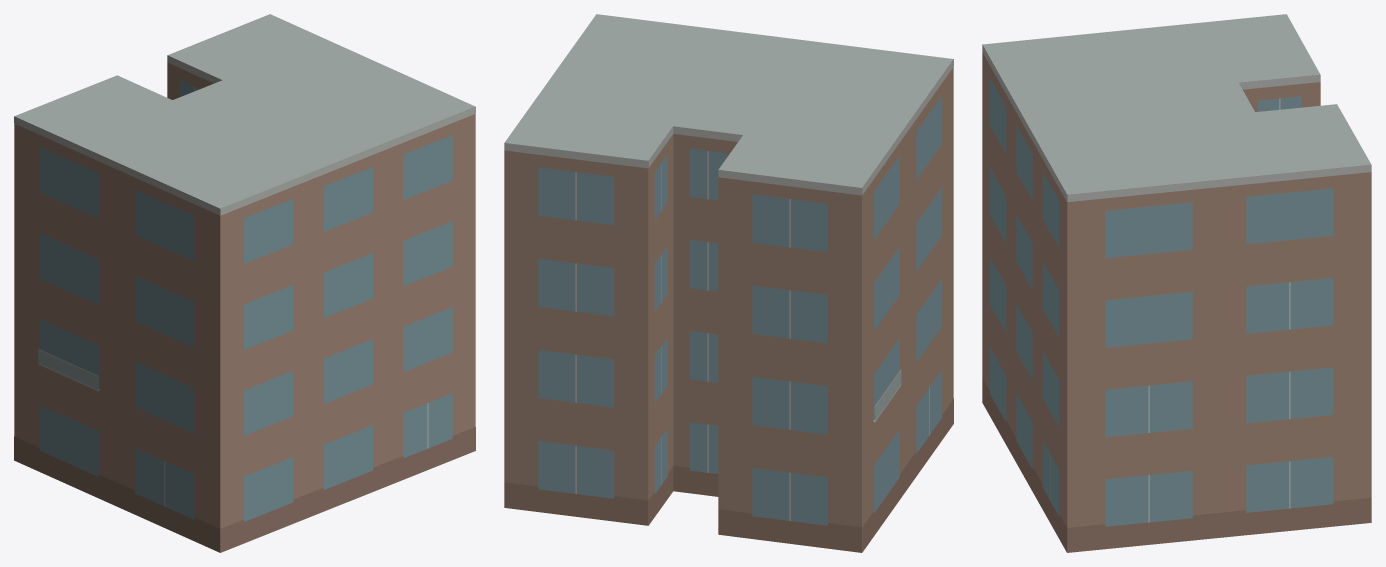
The model's file is survey-upis-32658635.glb.
3 renders of one model, left to right at view 1: azimuth 30°, elevation 25°; view 2: azimuth 150°, elevation 25°; view 3: azimuth 270°, elevation 25°, orthographic. The views are drawn at different scales.
Parts seen in each view (by area): view 1: survey-upis-32658635.tmp; view 2: survey-upis-32658635.tmp; view 3: survey-upis-32658635.tmp.
Boxes of the visible parts, left/top/right/bottom form: survey-upis-32658635.tmp: left=14, top=14, right=475, bottom=552; survey-upis-32658635.tmp: left=504, top=14, right=953, bottom=552; survey-upis-32658635.tmp: left=982, top=14, right=1371, bottom=552.
Size of the model in its own units: 12.79 by 11.8 by 11.63.
